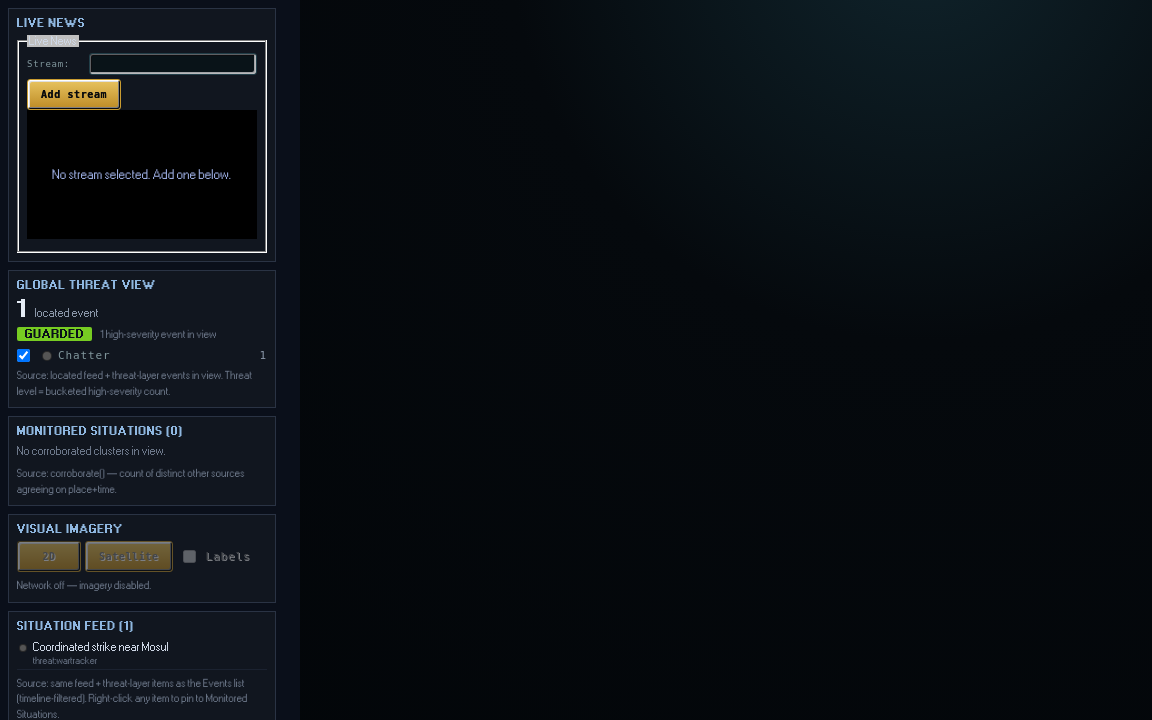
Test case: CommandRail — View details context-menu entry › still offers Add to Monitor in the same menu (existing behavior preserved)
Right-click the list item "Coordinated strike near Mosul threat:wartracker" at (142, 654), box [17,638,267,670]
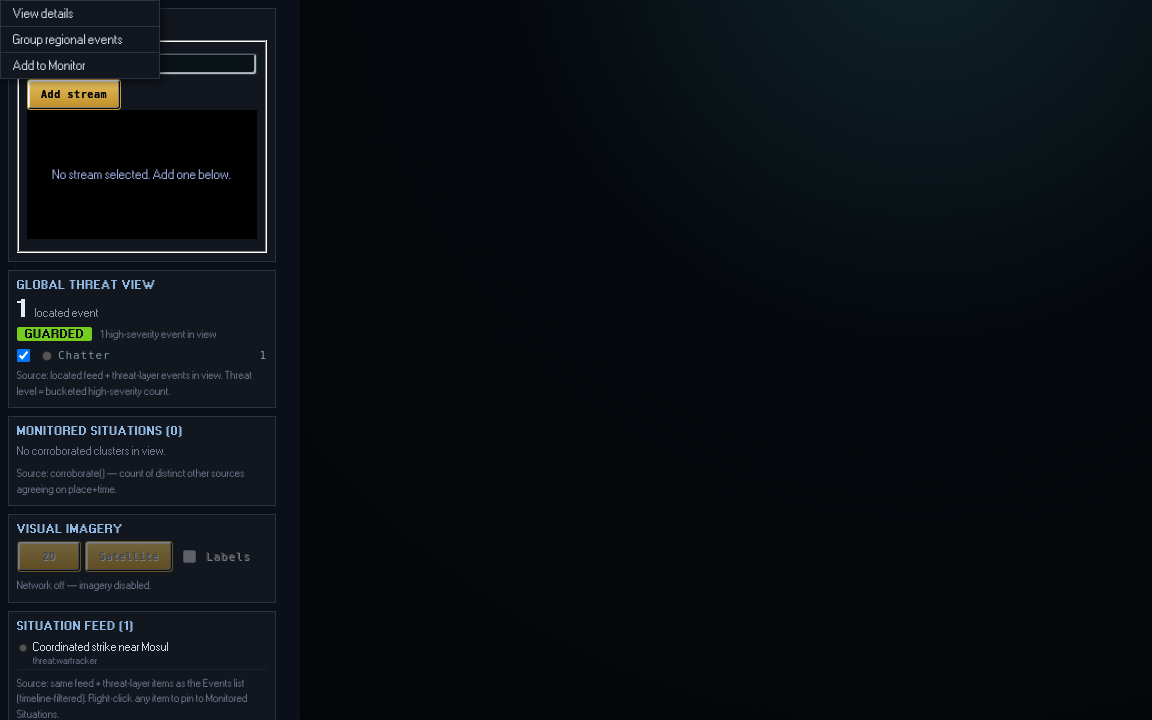
Expected: the text "Add to Monitor" is shown, [13,59,86,72]
